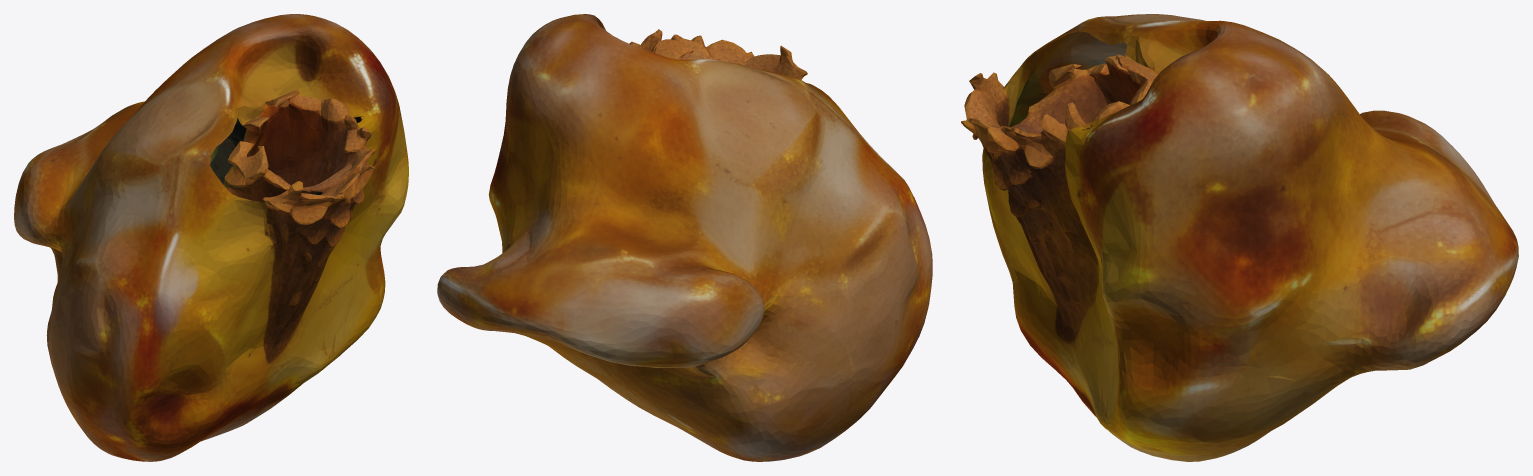
The picture shows the model from 3 angles, left to right: view 1: azimuth 30°, elevation 25°; view 2: azimuth 150°, elevation 25°; view 3: azimuth 270°, elevation 25°; orthographic projection. The views are drawn at different scales.
Parts seen in each view (by area): view 1: world; view 2: world; view 3: world.
Part boxes in pixels (left/top/right/bottom): world: left=14, top=14, right=408, bottom=461; world: left=437, top=14, right=932, bottom=461; world: left=961, top=14, right=1518, bottom=461.
Bounding box in the file's own units: 0.9027 × 0.9441 × 0.993.
1 material, 1 textured.
